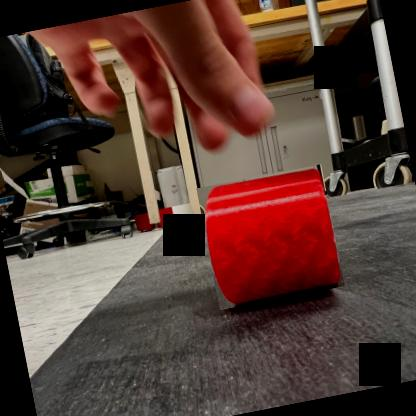red cylinder: (196, 164, 344, 310)
